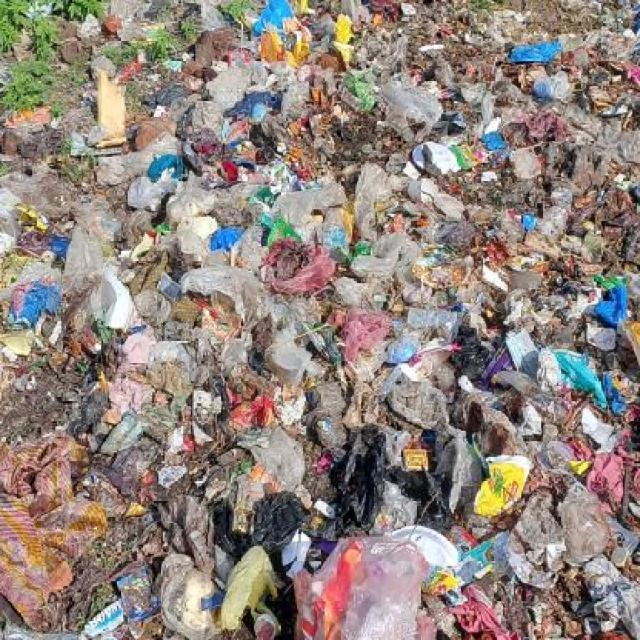garbage: (99, 0, 640, 638), (0, 112, 98, 638), (76, 14, 97, 106)
